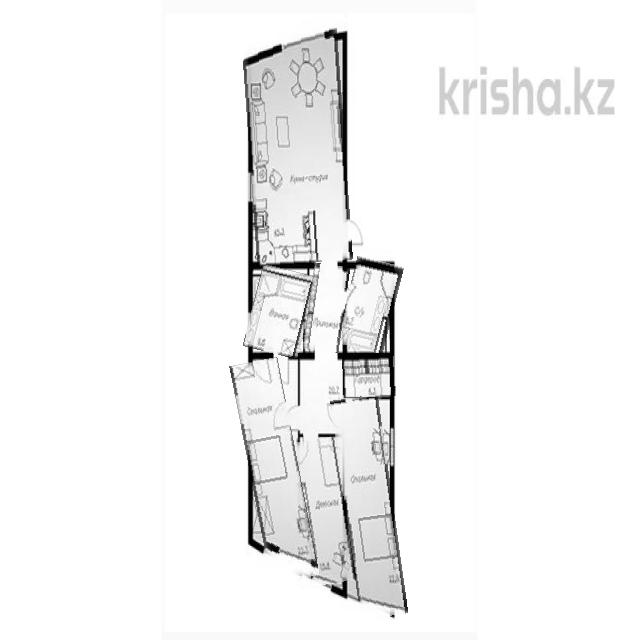bathroom: (248, 266, 312, 357), (341, 258, 399, 352)
hallway: (306, 263, 348, 352)
living_room: (240, 359, 309, 583), (338, 391, 400, 618), (294, 438, 350, 585)
other: (343, 356, 395, 398)
studio: (246, 28, 350, 264)
